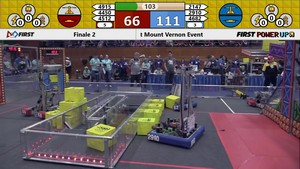cube: (85, 123, 118, 152), (136, 115, 158, 138), (48, 111, 67, 129), (164, 94, 184, 111), (61, 101, 85, 115), (50, 74, 70, 90), (64, 86, 84, 98), (148, 102, 163, 116)
